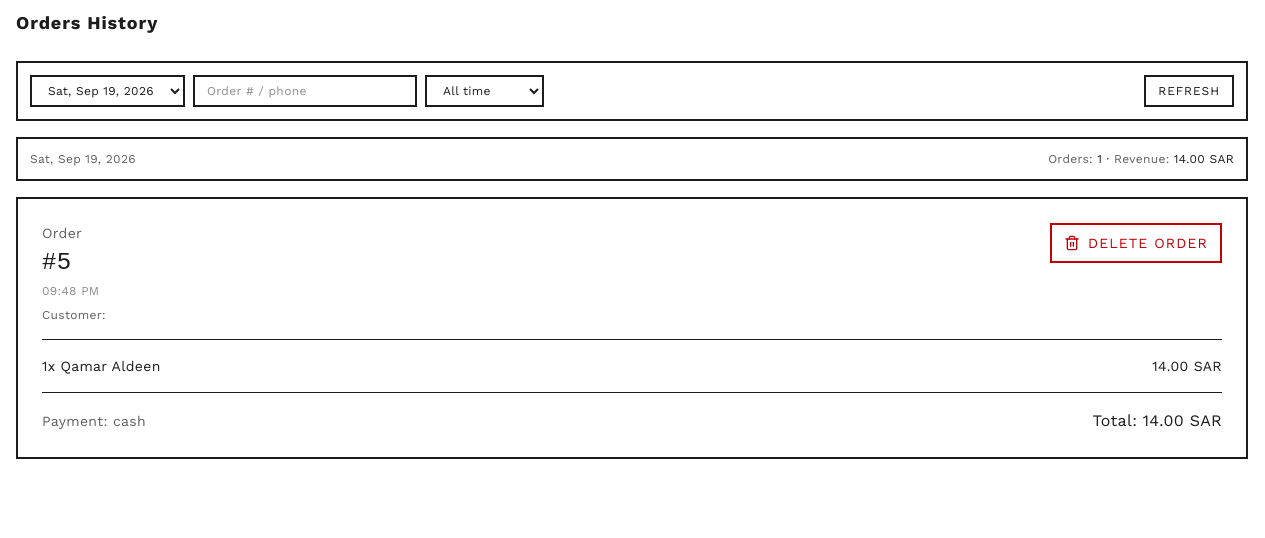
Scenario: keeps the card and shows an error if deletion fails
The image size is (1265, 538).
Click the button named "Delete order 20260919-005". click: (1136, 243)
box: top-left (1050, 223), bottom-right (1222, 263)
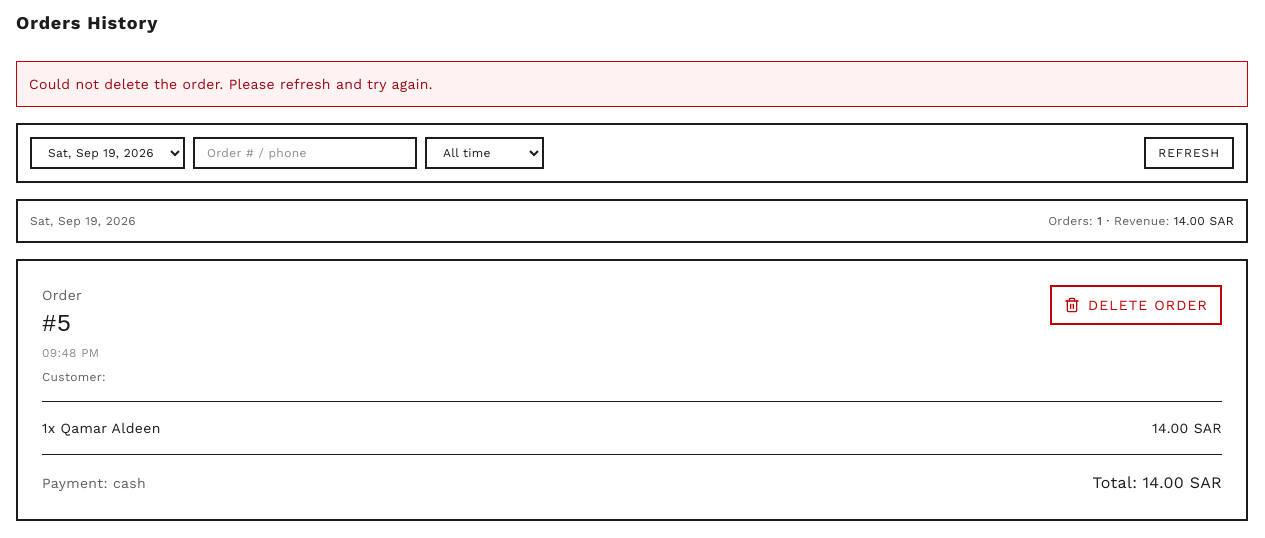
Expected: the text "1x Qamar Aldeen" is shown, top-left (42, 418), bottom-right (161, 438)
Expected: the message shows "Could not delete", top-left (29, 76), bottom-right (433, 92)
